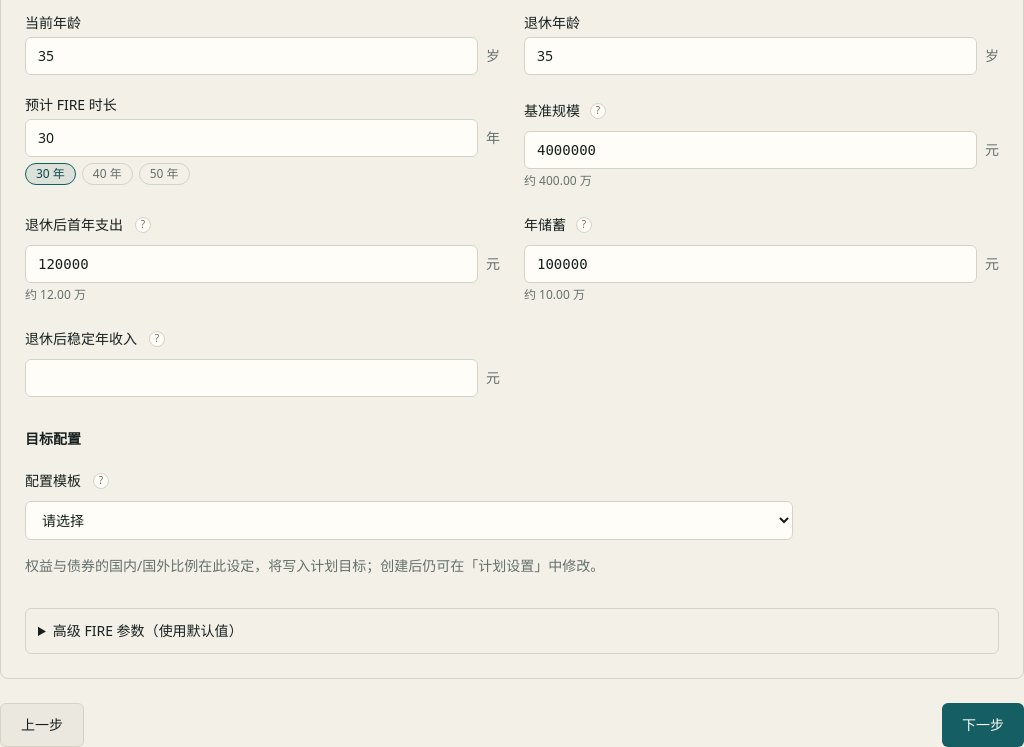
NewPlanWizardPage › shows missing-history hint on confirm step for unsynced assets
(page scrolled)
Select "测试场景 — 权益 100% / 债券 0% / 现金/其他 0%" in the dropdown labelled "配置模板" at (409, 520), box [25, 501, 793, 540]
(page scrolled)
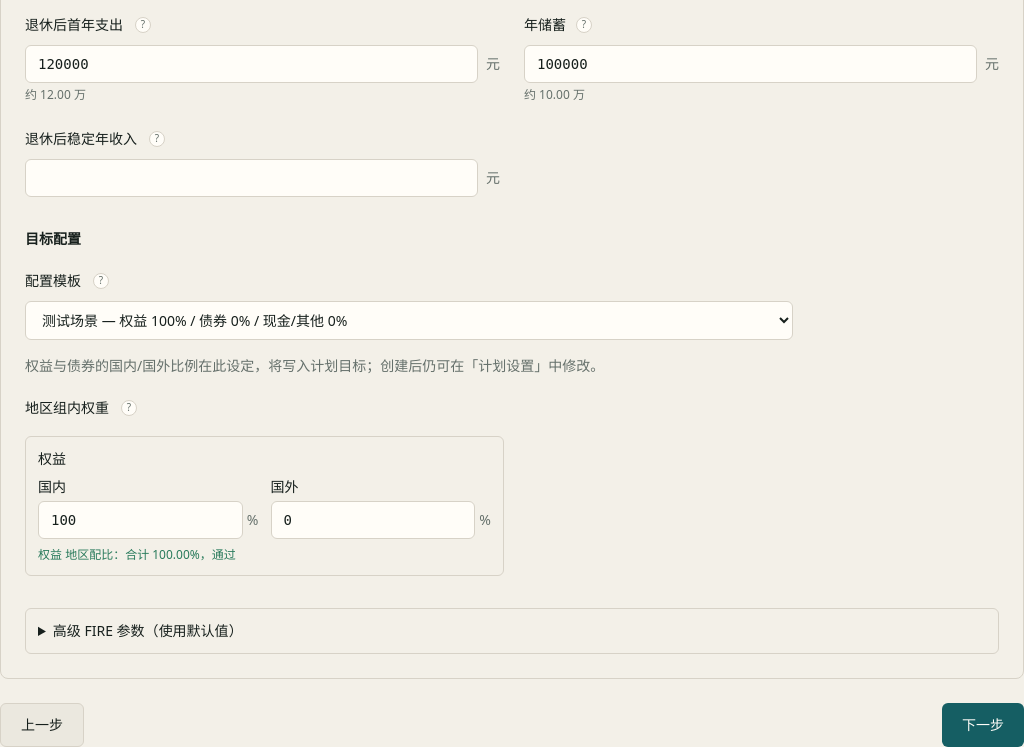
Click the button "下一步" at (983, 725), box [942, 703, 1023, 746]
(page scrolled)
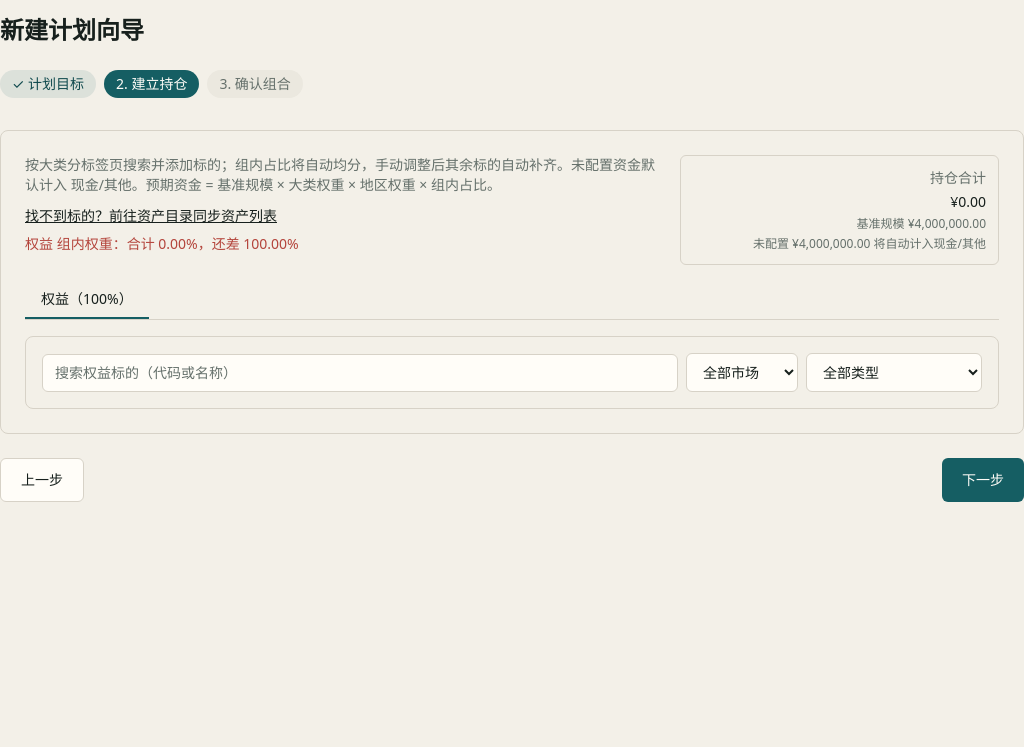
Expected: the text "按大类分标签页搜索并添加标的" is shown, [25, 155, 655, 194]
Type "SHORT" into the dropdown named "权益国内搜索" at (360, 372), box [42, 354, 678, 392]
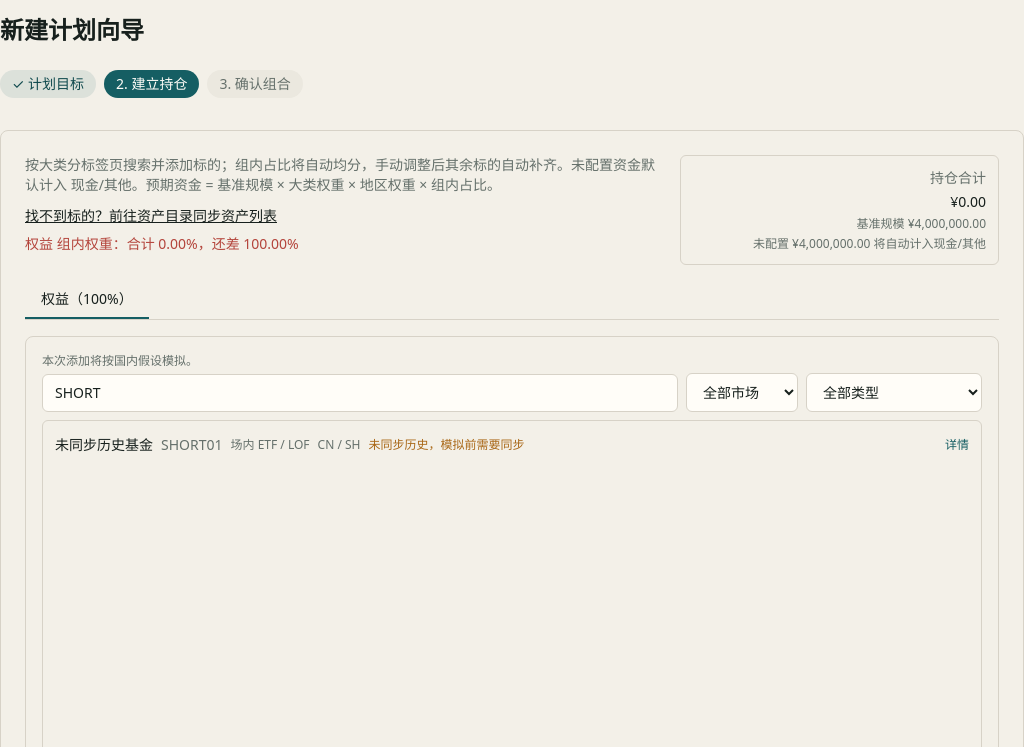
Click the button "未同步历史基金 SHORT01 场内 ETF / LOF CN / SH 未同步历史，模拟前需要同步" at (490, 445), box [43, 421, 937, 469]
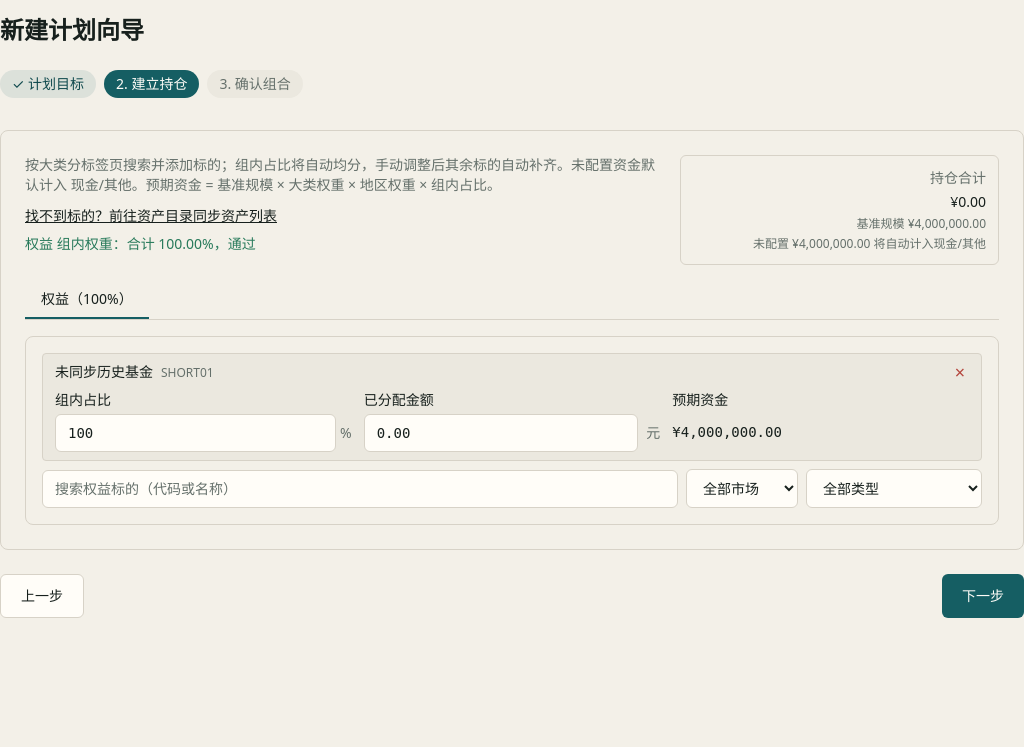
Click the button "下一步" at (983, 596), box [942, 574, 1023, 618]
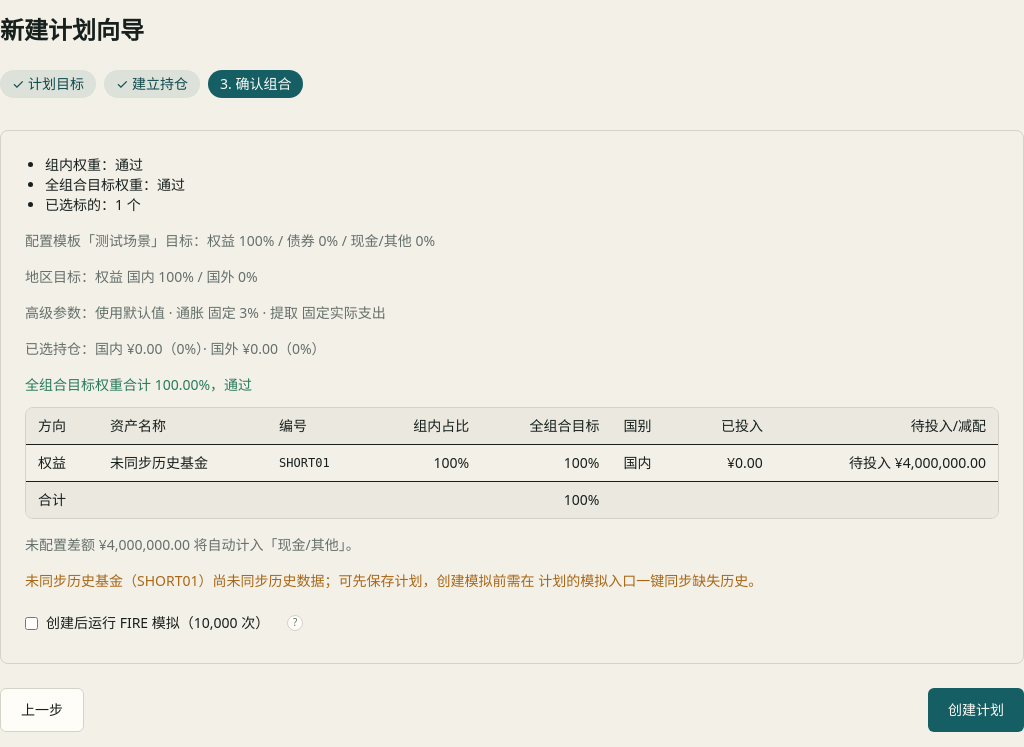
Expected: the text with test id "wizard-missing-history" shows "未同步历史基金（SHORT01）尚未同步历史数据", [25, 571, 762, 590]
Expected: the text with test id "wizard-missing-history" shows "一键同步缺失历史", [198, 571, 762, 590]
